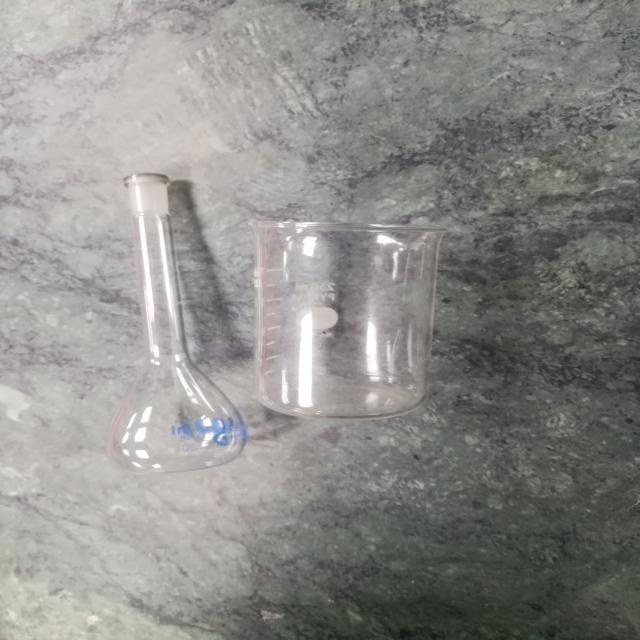Beaker: (254, 195, 461, 430)
Volumetric_Flask: (69, 150, 246, 486)
